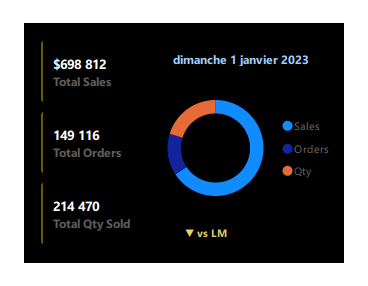

What the dashboard file says about the page in this screenshot:
{"tool":"powerbi","page":{"name":"Tool tips_calendar","canvas":[320,240],"ordinal":1},"visuals":[{"type":"cardVisual","fields":{"Data":["Transactions.Total Sales","Transactions.Total Orders","Transactions.Total Qty Sold"]},"box":[0,0,160,240],"z":0},{"type":"donutChart","fields":{"Y":["Transactions.Total Sales","Transactions.Total Orders","Transactions.Total Qty Sold"]},"box":[120,60,200,130],"z":1000},{"type":"cardVisual","fields":{"Data":["Min(Date Table.Date)"]},"box":[120,10,200,50],"z":2000},{"type":"cardVisual","fields":{"Data":["Transactions.MoM growth & Diff Sales"]},"box":[132,183,188,50],"z":3000}]}

Visuals, with their boxes on the page's 320x240 design canvas (x1, y1, x2, y2). These are canvas units, not pixel positions in the 368x286 screenshot, which may show the page scaled, cropped or inside an application window:
cardVisual - Transactions.Total Sales x Transactions.Total Orders: <region>0, 0, 160, 240</region>
donutChart - Transactions.Total Sales x Transactions.Total Orders: <region>120, 60, 320, 190</region>
cardVisual - Min(Date Table.Date): <region>120, 10, 320, 60</region>
cardVisual - Transactions.MoM growth & Diff Sales: <region>132, 183, 320, 233</region>
